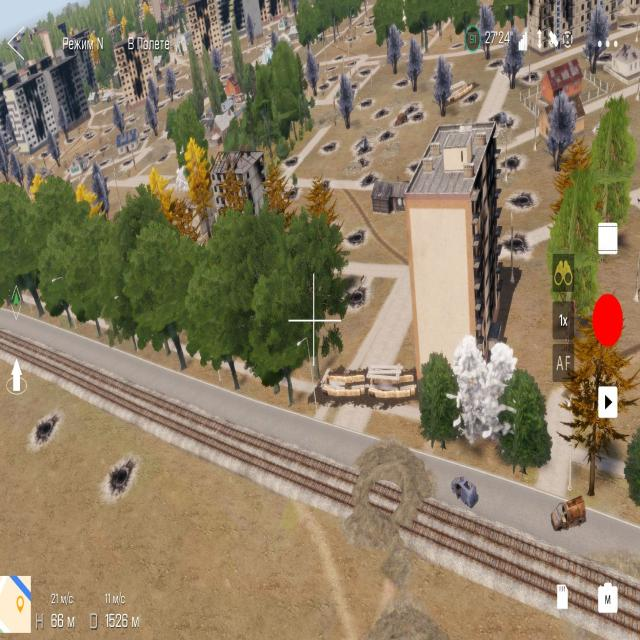fortification: (394, 125, 508, 358), (0, 41, 99, 134), (201, 129, 277, 228), (315, 364, 418, 416), (106, 27, 170, 107), (525, 0, 613, 55), (528, 99, 592, 144), (188, 0, 225, 74), (365, 173, 417, 223), (538, 65, 586, 102), (434, 76, 482, 109), (603, 48, 640, 88), (112, 125, 146, 160), (65, 154, 95, 180)
vehicle: (540, 482, 593, 542), (444, 466, 485, 514), (390, 103, 412, 127)
